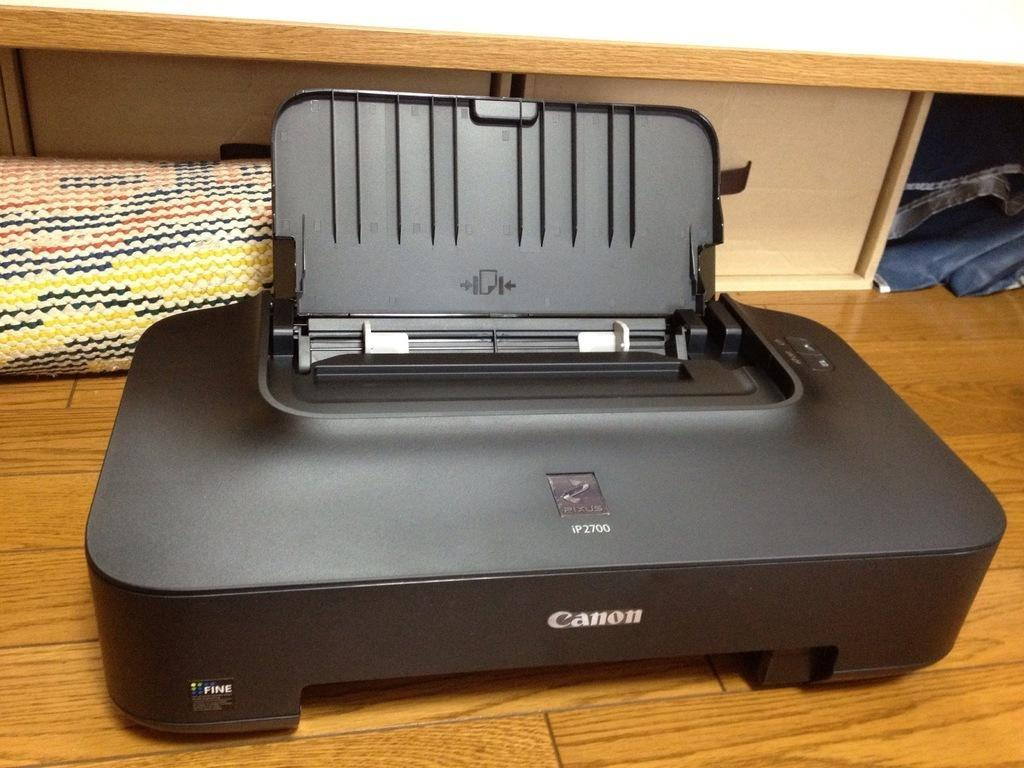Printer: (82, 84, 1007, 734)
